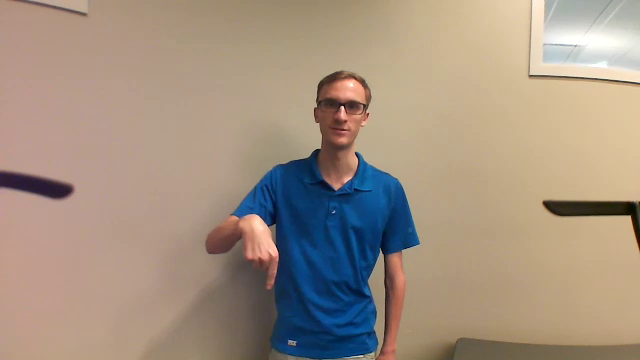down: (229, 208, 288, 296)
